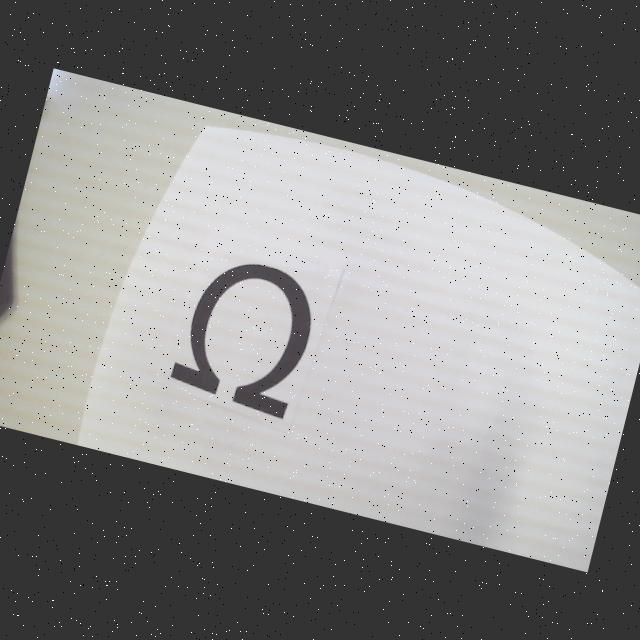OMEGA: (166, 248, 324, 421)
